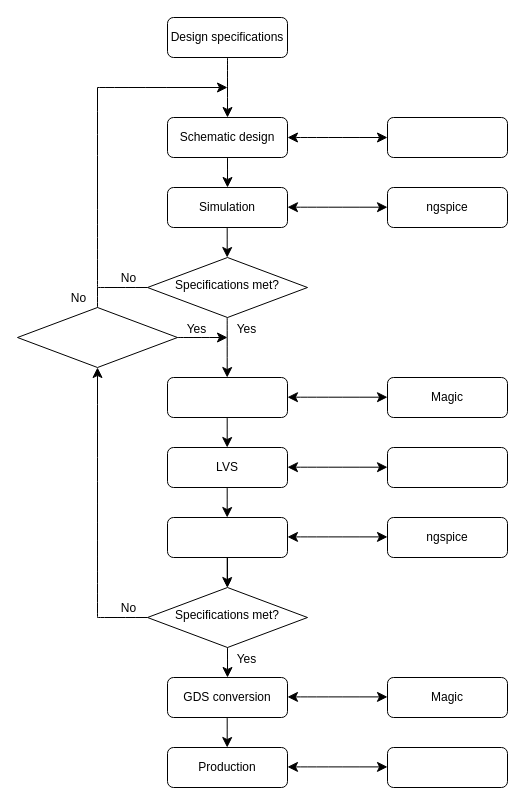
Some shapes in this 525 by 805 pixel diagram are drawn without their labels. The centre of each missing label's shape, as x and y in pixels:
"Layout design" goes at (x=227, y=397).
"Layout issue?" goes at (x=97, y=337).
"netgen" goes at (x=447, y=467).
"Post-layout simulation" goes at (x=227, y=537).
"SKY130 pdk" goes at (x=447, y=767).
"xschem" goes at (x=447, y=137).
